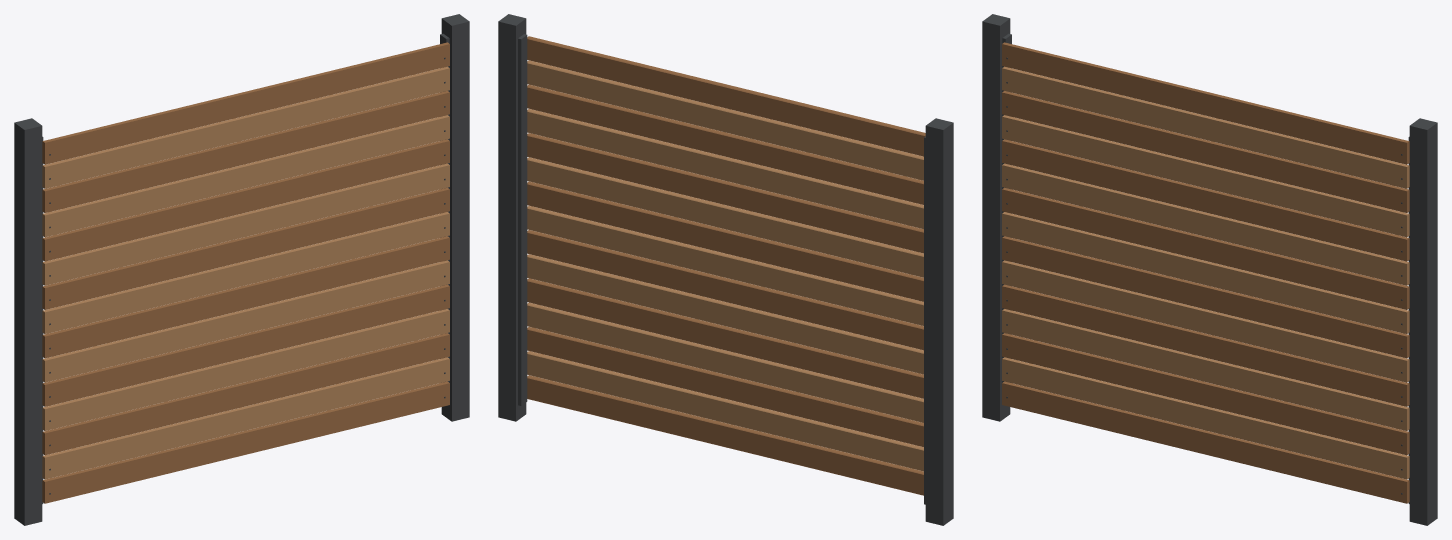
The picture shows the model from 3 angles, left to right: view 1: azimuth 30°, elevation 25°; view 2: azimuth 150°, elevation 25°; view 3: azimuth 330°, elevation 25°; orthographic projection.
Parts seen in each view (by area): view 1: Slats, AlternateSlats, Posts, EndPost; view 2: Slats, AlternateSlats, Posts, EndPost, Supports; view 3: Slats, AlternateSlats, EndPost, Posts.
Part boxes in pixels (x1=…): Slats: x1=42, y1=42, x2=449, y2=503; AlternateSlats: x1=42, y1=66, x2=449, y2=479; Posts: x1=14, y1=118, x2=42, y2=525; EndPost: x1=441, y1=14, x2=469, y2=421; Slats: x1=527, y1=36, x2=925, y2=495; AlternateSlats: x1=527, y1=60, x2=923, y2=471; Posts: x1=925, y1=118, x2=953, y2=525; EndPost: x1=498, y1=14, x2=526, y2=421; Supports: x1=518, y1=34, x2=925, y2=504; Slats: x1=1002, y1=42, x2=1409, y2=503; AlternateSlats: x1=1002, y1=66, x2=1409, y2=479; EndPost: x1=1409, y1=118, x2=1437, y2=525; Posts: x1=982, y1=14, x2=1010, y2=421.
Bounding box in the file's own units: 2 × 1.7 × 0.084.
